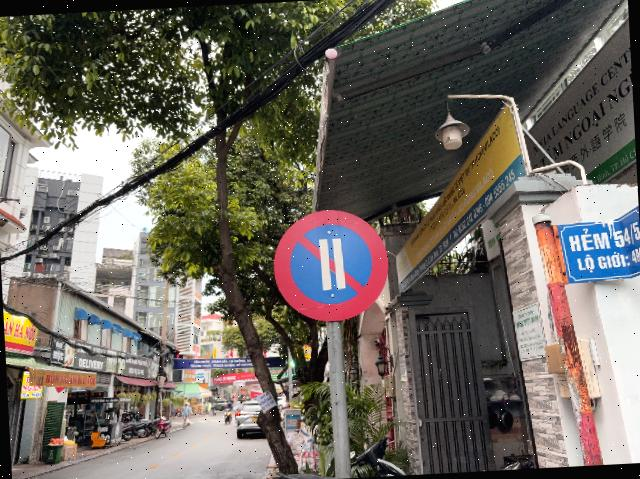cam-do-xe-ngay-chan: (271, 206, 390, 324)
